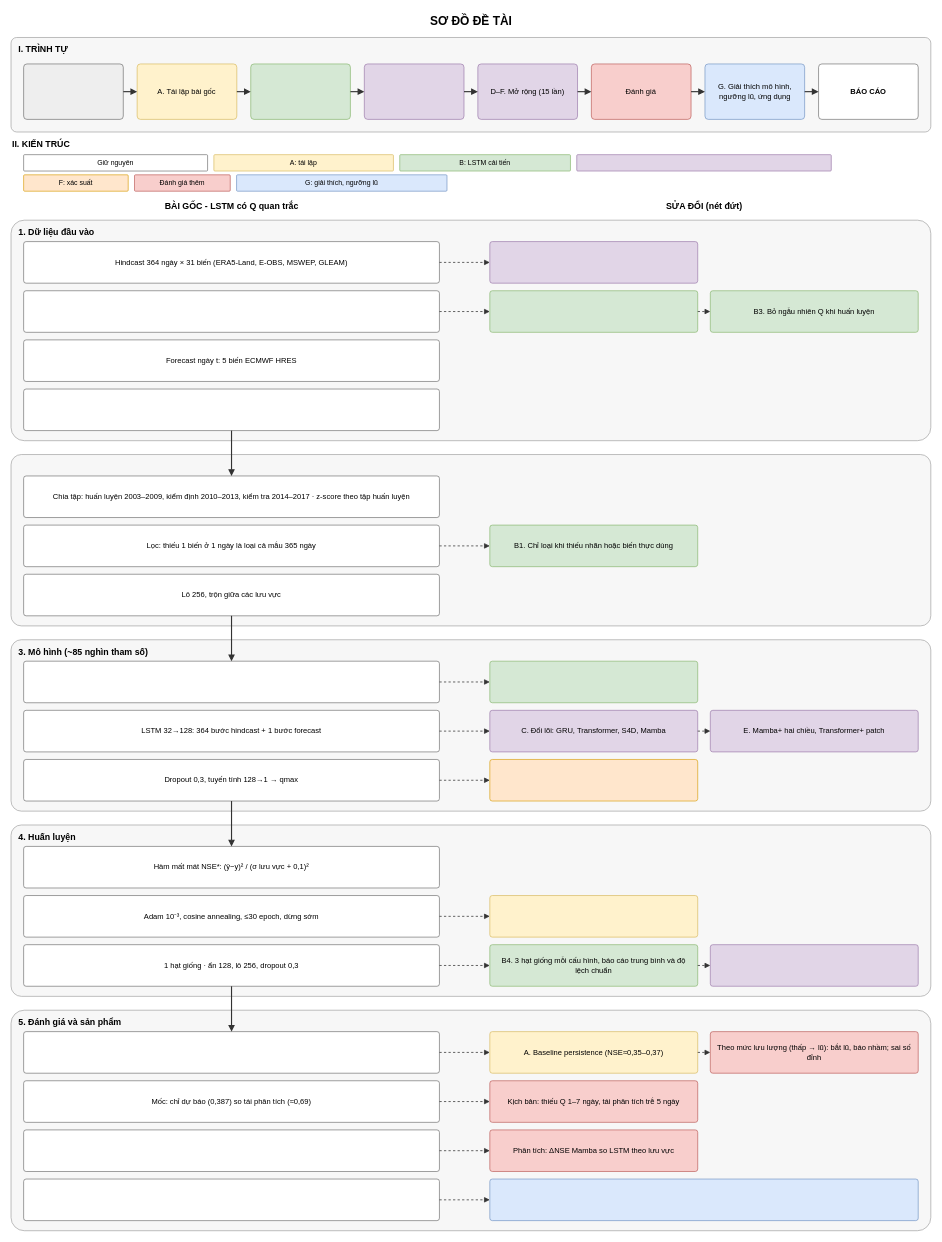
This 942x1242 diagram has some shape labels left out. Each missing label, with the box of its shape:
0. Chuẩn bị dữ liệu: (23, 63, 123, 119)
2. Tiền xử lý: (10, 454, 931, 626)
33 thuộc tính tĩnh · nhãn qmax ngày t: (23, 388, 439, 431)
B. Cải tiến LSTM (15 lần): (250, 63, 350, 119)
B1. Nhúng masked mean, trung bình nguồn có sẵn: (489, 661, 698, 703)
B2. Thống nhất đơn vị, thêm qmax các ngày trước: (489, 290, 698, 332)
C, D, E: lõi và xét chuỗi dài: (576, 154, 831, 171)
C. Tinh chỉnh ẩn 64 / 128 / 256: (710, 944, 918, 986)
C. Đổi lõi (12 lần): (364, 63, 464, 119)
Chưa có giải thích mô hình, ngưỡng lũ, ứng dụng: (23, 1178, 439, 1221)
D. Mở rộng lên 730 ngày (LSTM, Mamba): (489, 241, 698, 283)
F. CMAL → xác suất vượt ngưỡng: (489, 759, 698, 801)
G. Giải thích (Integrated Gradients), ngưỡng lũ, bản đồ 451 lưu vực: (489, 1178, 918, 1221)
Kiểm tra 2014–2017: NSE, KGE, CDF (tốt nhất NSE≈0,705): (23, 1031, 439, 1073)
Nhúng tuyến tính 3 nguồn, ghép 32 chiều/bước: (23, 661, 439, 703)
Q quá khứ: chưa thống nhất đơn vị (cần kiểm tra), thiếu ngày → mất mẫu: (23, 290, 439, 332)
Sửa để tái lập: tiêu chí lưu mô hình, đường dẫn tệp cấu hình: (489, 895, 698, 937)
ΔNSE theo lưu vực, tương quan thuộc tính: (23, 1129, 439, 1171)
